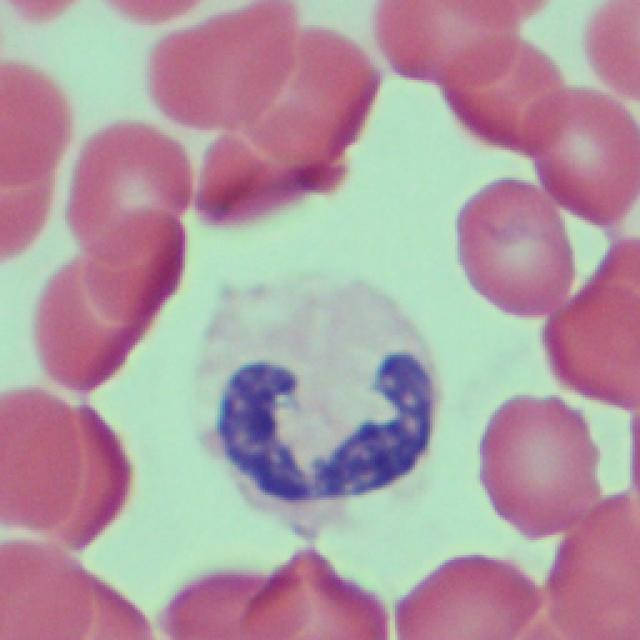RBC: (0, 379, 122, 562), (138, 4, 318, 120), (474, 389, 601, 543), (450, 170, 570, 327), (266, 22, 380, 182), (526, 486, 638, 640), (27, 256, 156, 388), (433, 8, 560, 142), (543, 225, 637, 403), (71, 121, 193, 249), (0, 41, 67, 273), (388, 549, 544, 639), (532, 90, 638, 218), (586, 2, 640, 113), (0, 0, 86, 30)
WBC: (192, 266, 443, 523)
